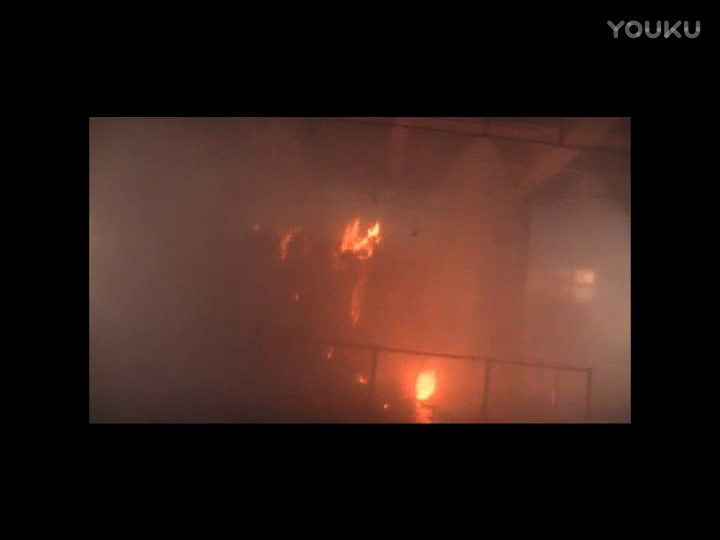fire: (338, 210, 384, 274), (412, 368, 445, 413)
